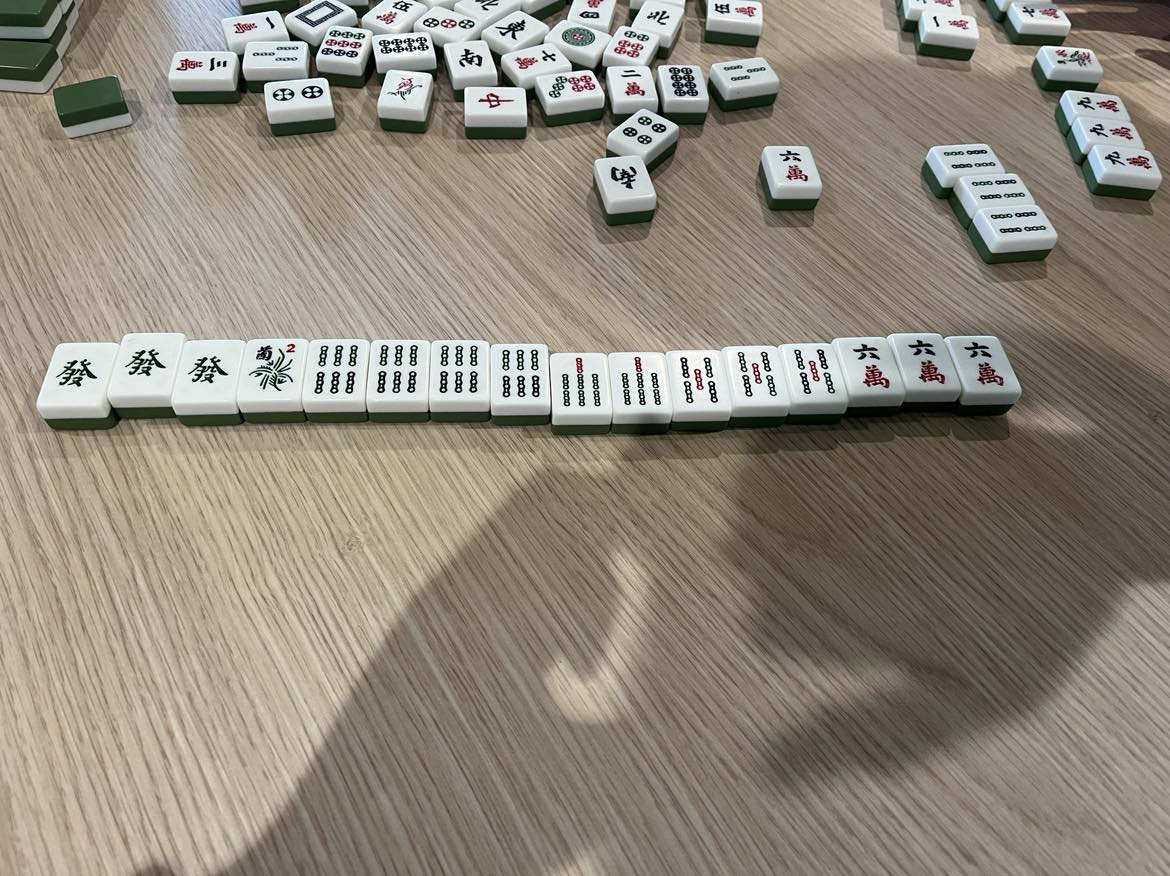bamboo-five: (672, 352, 727, 408), (790, 347, 838, 400), (735, 351, 781, 401)
bamboo-seven: (553, 357, 607, 413), (618, 354, 666, 410)
bamboo-six: (372, 341, 424, 397), (495, 347, 544, 401), (436, 344, 484, 399), (310, 343, 359, 396)
character-six: (848, 338, 896, 393), (960, 338, 1010, 390), (907, 336, 948, 388)
honor-green_dragon: (50, 350, 99, 398), (181, 351, 232, 391), (122, 341, 167, 385)
